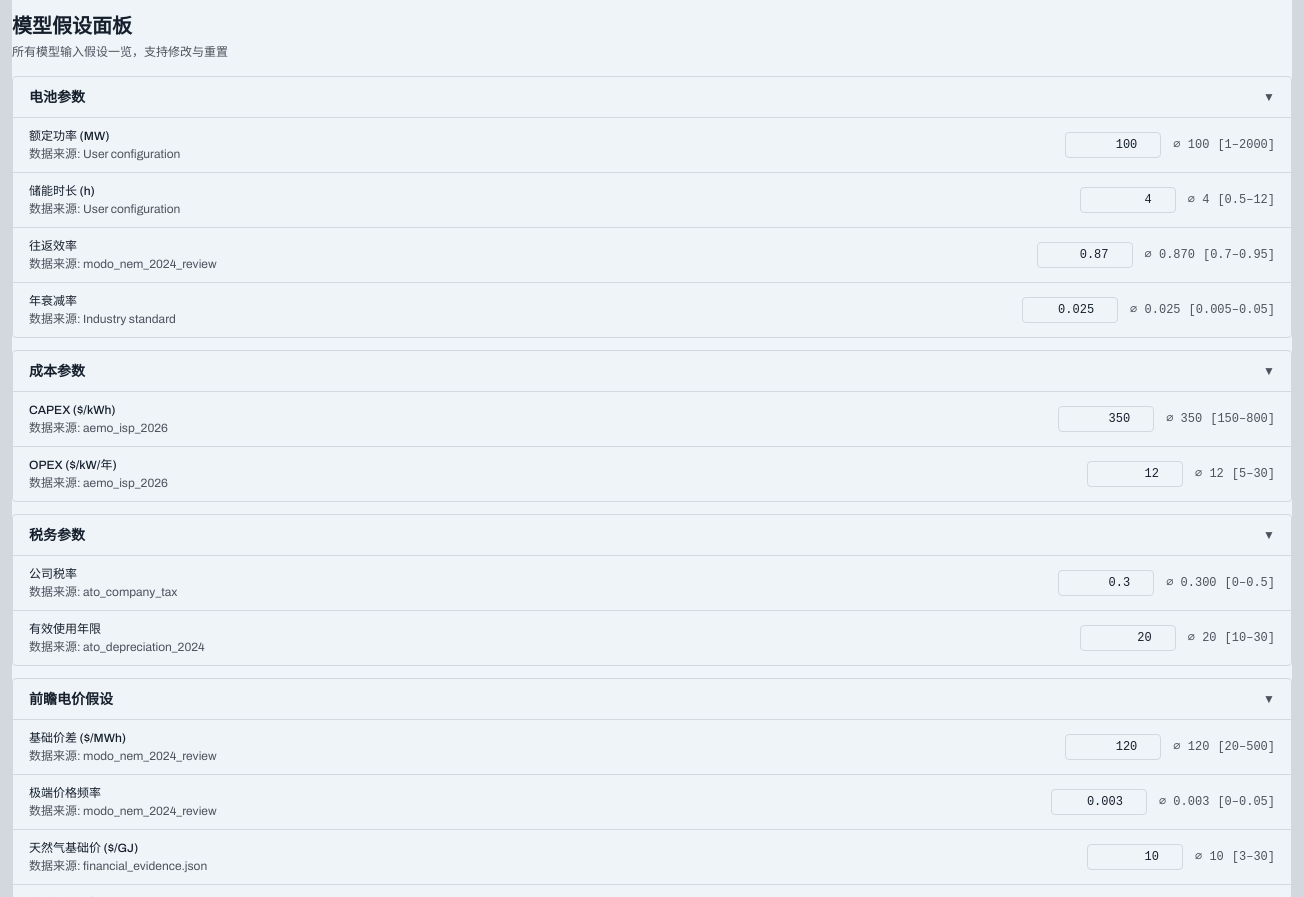
Test: AssumptionPanel › 重置按钮存在（修改值后显示）
The width and height of the screenshot is (1304, 897).
修改一个值以触发重置按钮显示
Replace the text in the number field named "额定功率 (MW)" with "200" at (1113, 145), box [1065, 132, 1161, 158]
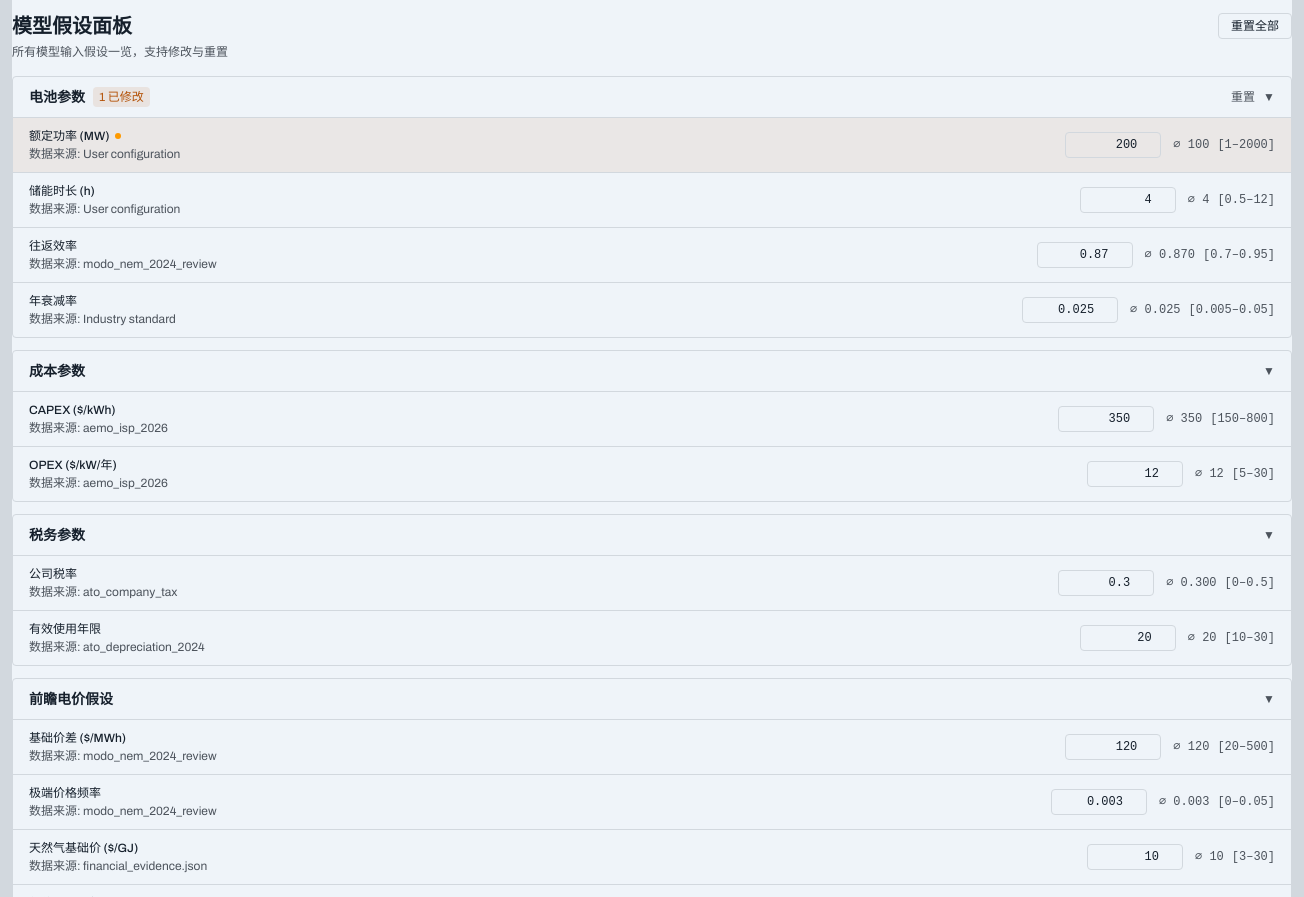
Now the button "重置全部" is shown, box [1218, 13, 1292, 39]
